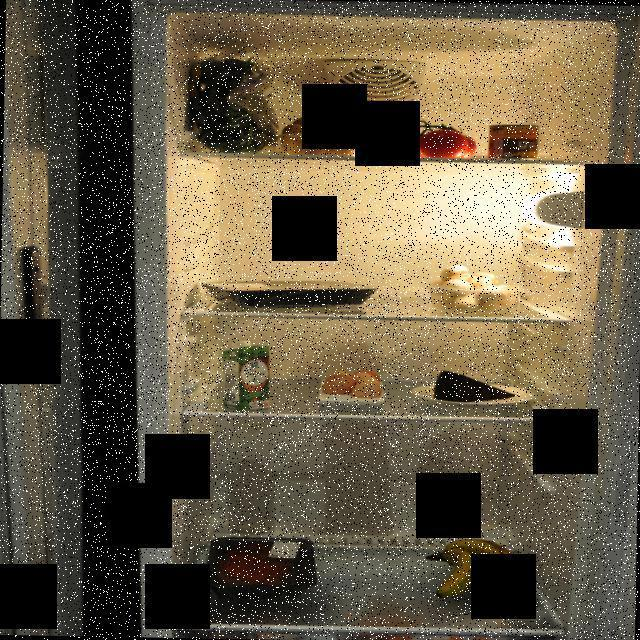banana: (422, 535, 523, 603)
beef: (202, 534, 322, 603)
cheese: (430, 368, 520, 403)
corn: (484, 121, 542, 163)
eggs: (322, 369, 384, 402)
heavy_cream: (220, 338, 276, 412)
mushrooms: (432, 260, 518, 314)
potato: (274, 114, 366, 156)
spinach: (187, 54, 284, 154)
tomato: (370, 102, 479, 158)
